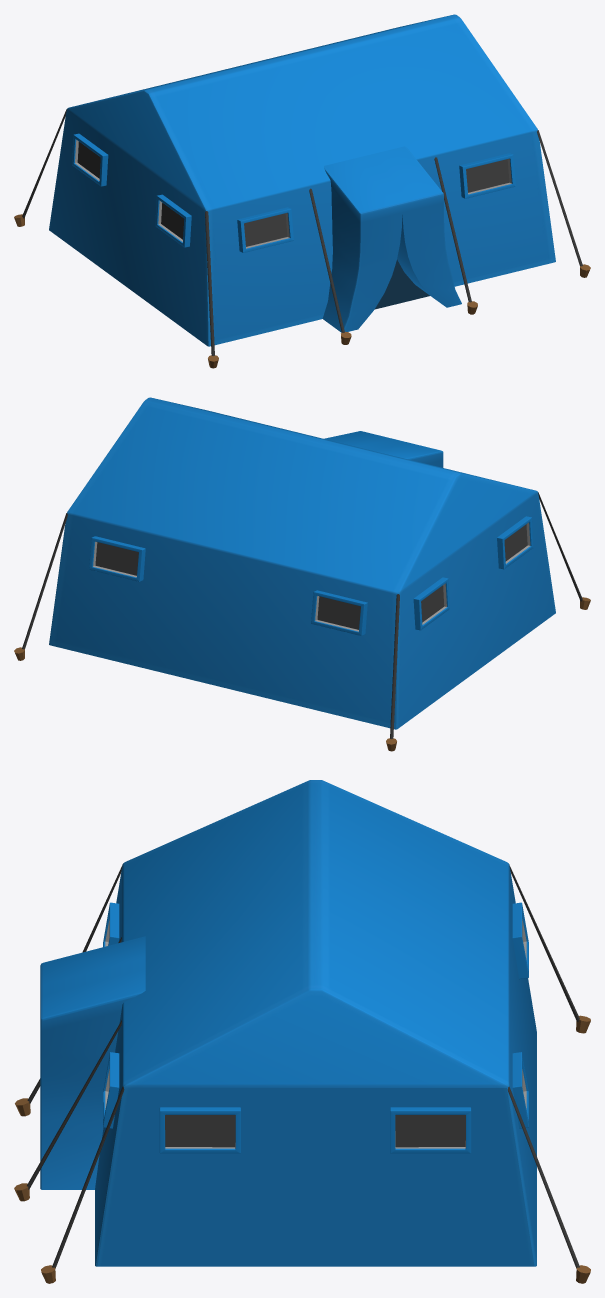
Rendered from Base 2 Gun.fbx.
3 views of the same model, one above another, from view 1: azimuth 30°, elevation 25°; view 2: azimuth 150°, elevation 25°; view 3: azimuth 270°, elevation 25° (orthographic). The views are drawn at different scales.
Visible parts, largest first — view 1: Base_2New; view 2: Base_2New; view 3: Base_2New.
Boxes of the visible parts, box(x1,y1,x2,y2) form: Base_2New: box(14, 14, 590, 368); Base_2New: box(14, 397, 590, 751); Base_2New: box(14, 780, 590, 1283).
Size of the model in its own units: 487 by 242 by 463.
Materials: 1 (1 with a texture image).
